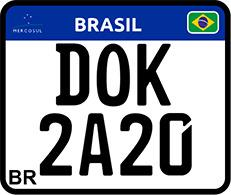Placa_mercosul_carro: (12, 3, 231, 186), (91, 124, 101, 155)
